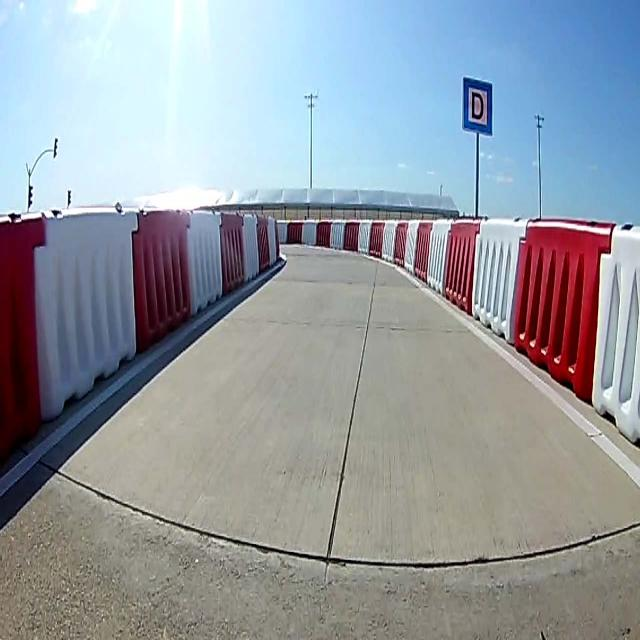durak: (462, 75, 492, 135)
